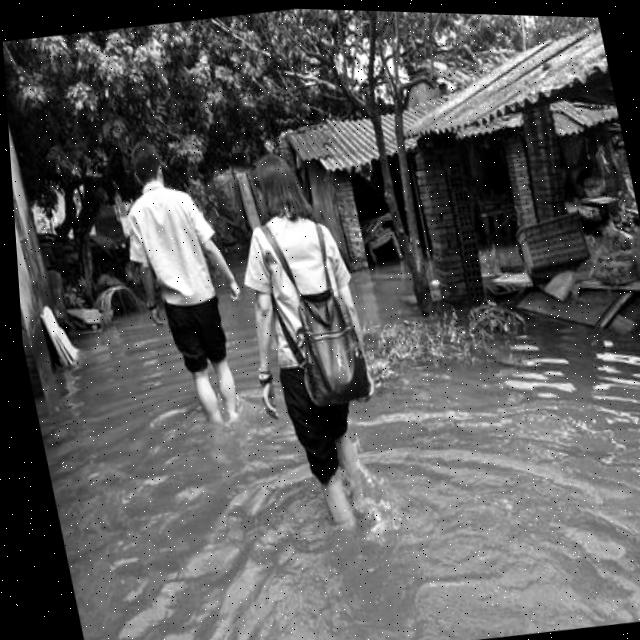civilian: (208, 121, 422, 550), (98, 120, 269, 452)
